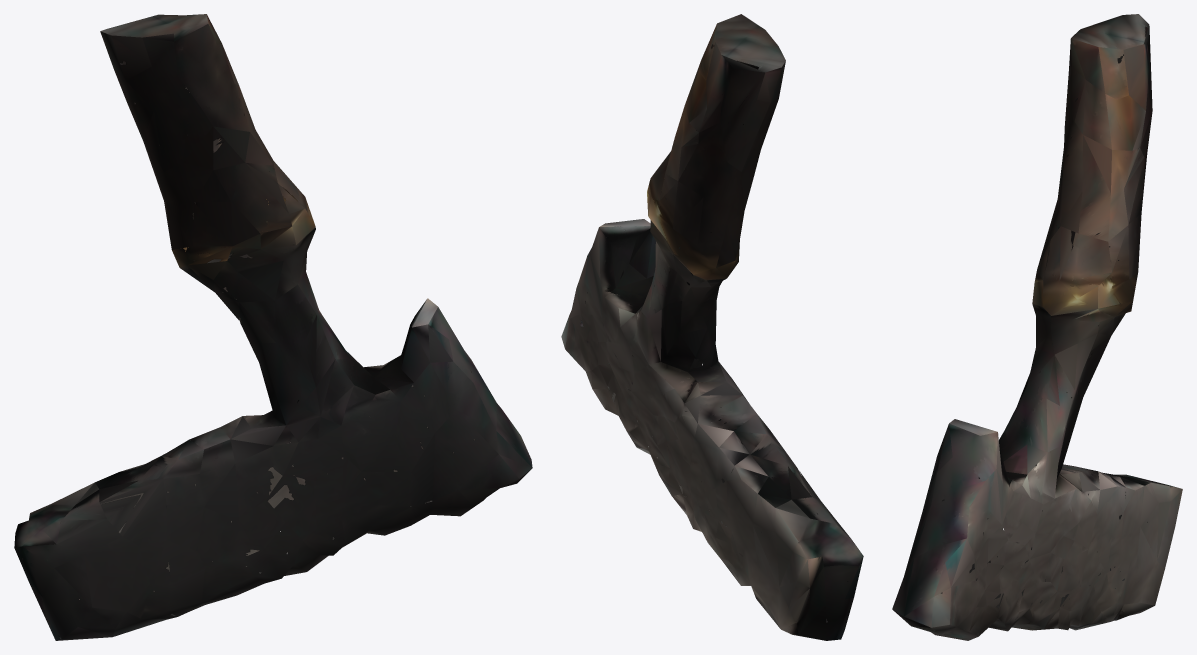
File: 09_quarry.fbx
3 renders of one model, left to right at view 1: azimuth 30°, elevation 25°; view 2: azimuth 150°, elevation 25°; view 3: azimuth 270°, elevation 25°, orthographic. The views are drawn at different scales.
Visible parts, largest first — view 1: 09_quarry; view 2: 09_quarry; view 3: 09_quarry.
Part boxes in pixels (x1=…): 09_quarry: x1=14, y1=14, x2=532, y2=640; 09_quarry: x1=561, y1=14, x2=863, y2=640; 09_quarry: x1=892, y1=14, x2=1182, y2=640.
Bounding box in the file's own units: 17.95 × 25 × 10.62.
Materials: 1 (1 with a texture image).
